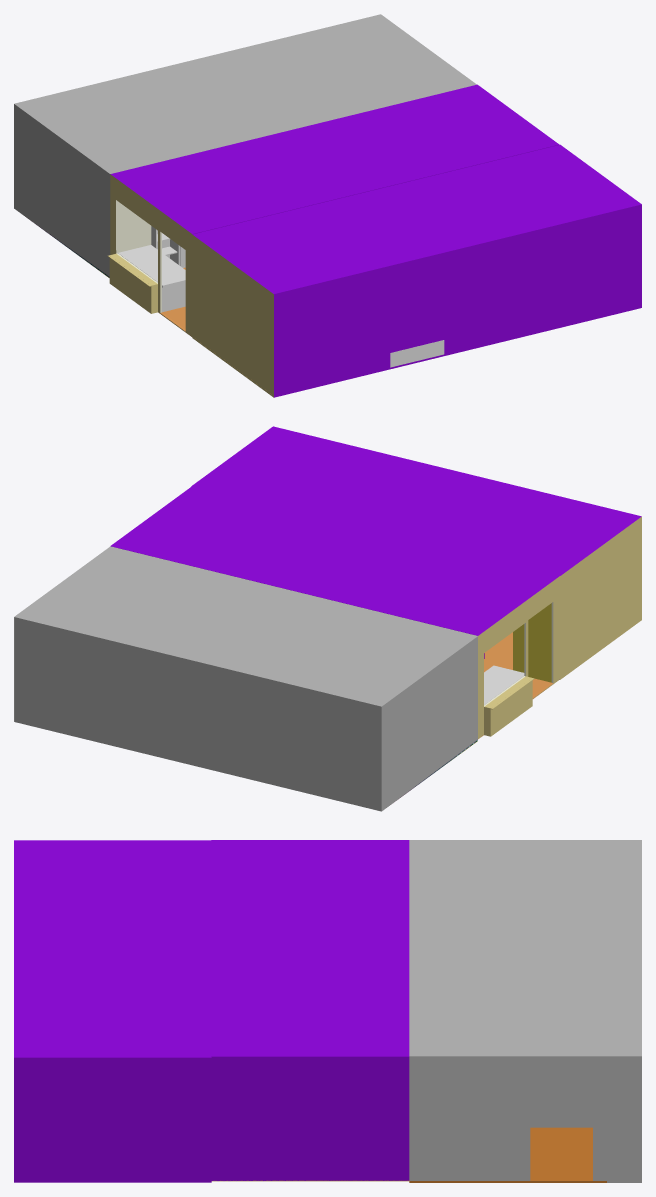
Rendered from kitchen.glb.
The picture shows the model from 3 angles, top to bottom: view 1: azimuth 30°, elevation 25°; view 2: azimuth 150°, elevation 25°; view 3: azimuth 270°, elevation 25°; orthographic projection. The views are drawn at different scales.
Visible parts, largest first — view 1: Куб.019, my-ketchen-1, Куб.001, Куб.016, Куб.021, Куб.025; view 2: my-ketchen-1, Куб.019, Куб.001, Куб.016, floor.001; view 3: my-ketchen-1, Куб.001, Куб.019.
Part boxes in pixels (box(x1,y1,x2,y2)): Куб.019: box(192, 144, 641, 397); my-ketchen-1: box(14, 14, 476, 277); Куб.001: box(107, 84, 559, 336); Куб.016: box(118, 245, 185, 312); Куб.021: box(113, 198, 151, 253); Куб.025: box(390, 340, 444, 367); my-ketchen-1: box(14, 546, 477, 811); Куб.019: box(191, 426, 641, 679); Куб.001: box(110, 486, 560, 739); Куб.016: box(484, 665, 524, 704); floor.001: box(484, 632, 512, 666); my-ketchen-1: box(409, 840, 641, 1182); Куб.001: box(211, 840, 409, 1181); Куб.019: box(14, 840, 211, 1182).
Bounding box in the file's own units: 22.59 × 6.08 × 26.99.
Materials: 18 (2 with a texture image).
